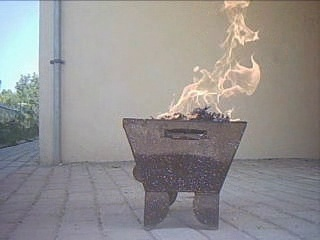fire: (157, 0, 266, 122)
